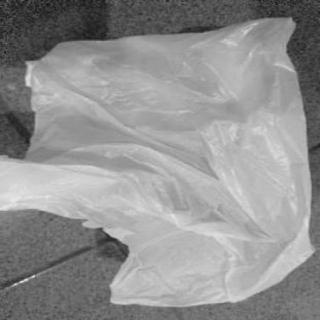objects: (0, 18, 320, 308)
